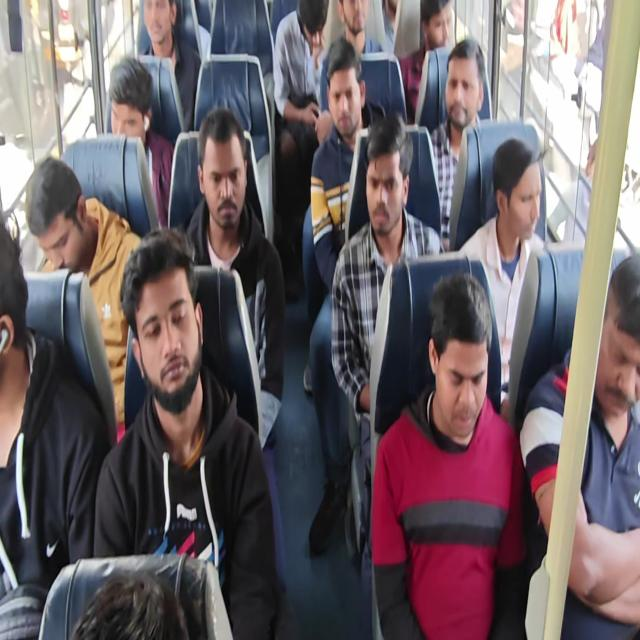person: (49, 544, 198, 640), (132, 257, 200, 393), (439, 282, 496, 433), (585, 264, 640, 414), (0, 214, 44, 398), (25, 153, 82, 259), (436, 47, 494, 131), (98, 44, 153, 128), (207, 124, 249, 230), (363, 141, 409, 237), (492, 155, 539, 244), (326, 62, 368, 133), (285, 0, 334, 60), (136, 0, 189, 49), (419, 0, 459, 57), (338, 0, 373, 45)
